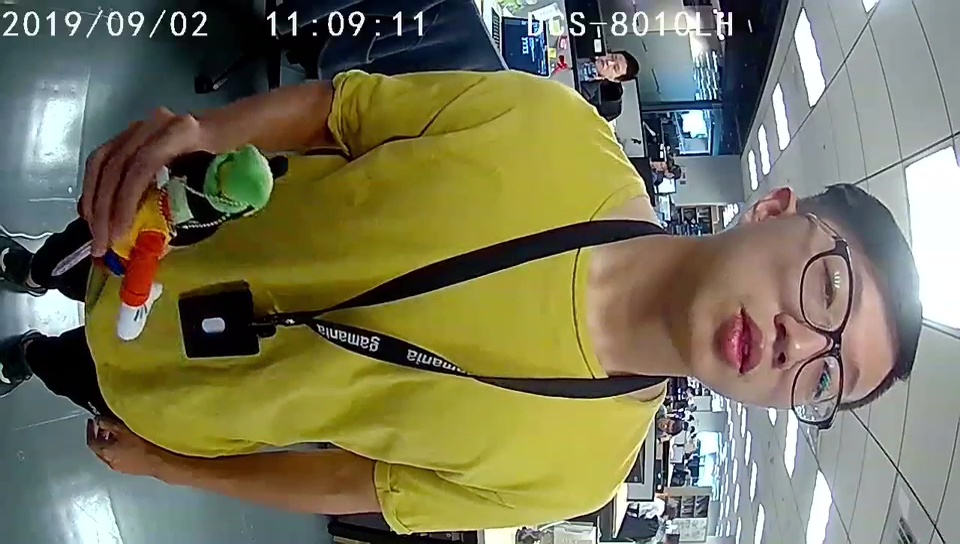goofy: (118, 142, 273, 340)
